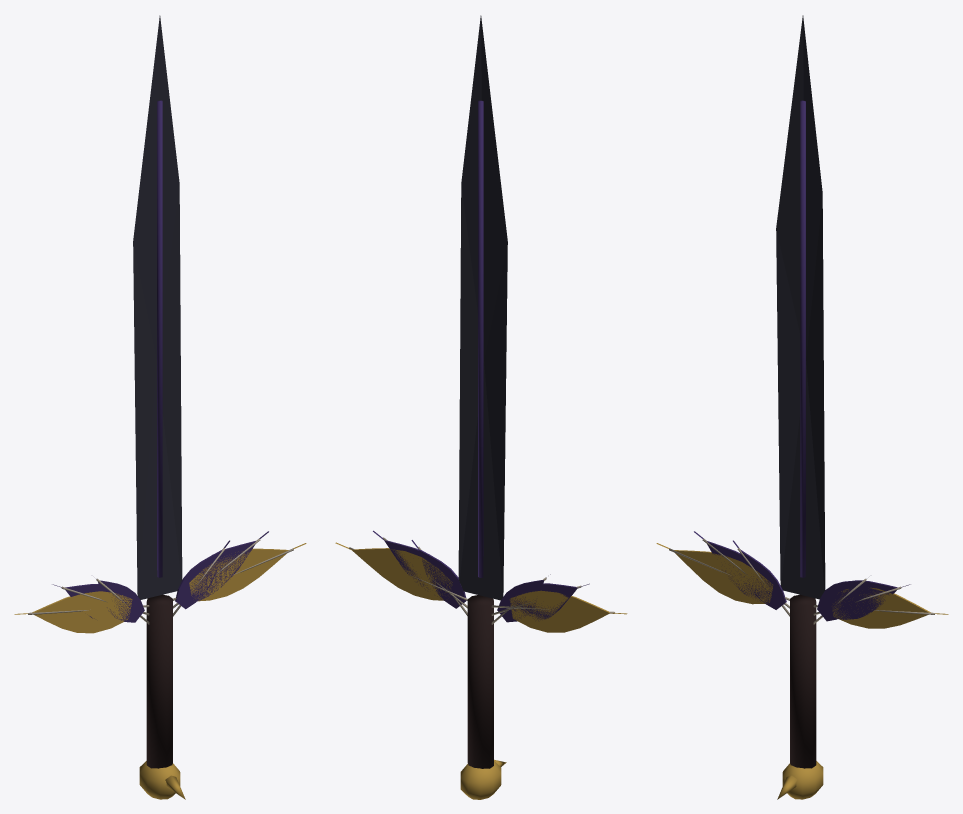
File: rabenschwinge.glb
3 renders of one model, left to right at view 1: azimuth 30°, elevation 25°; view 2: azimuth 150°, elevation 25°; view 3: azimuth 330°, elevation 25°, orthographic.
Visible parts, largest first — view 1: f; view 2: f; view 3: f.
Boxes of the visible parts, left/top/right/bottom form: f: left=14, top=15, right=306, bottom=799; f: left=335, top=15, right=627, bottom=799; f: left=656, top=15, right=948, bottom=799.
Size of the model in its own units: 0.3254 by 0.835 by 0.0747.
